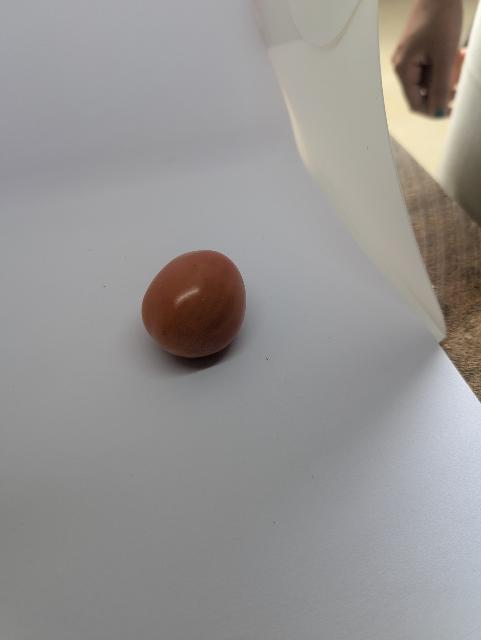red: (139, 243, 260, 372)
